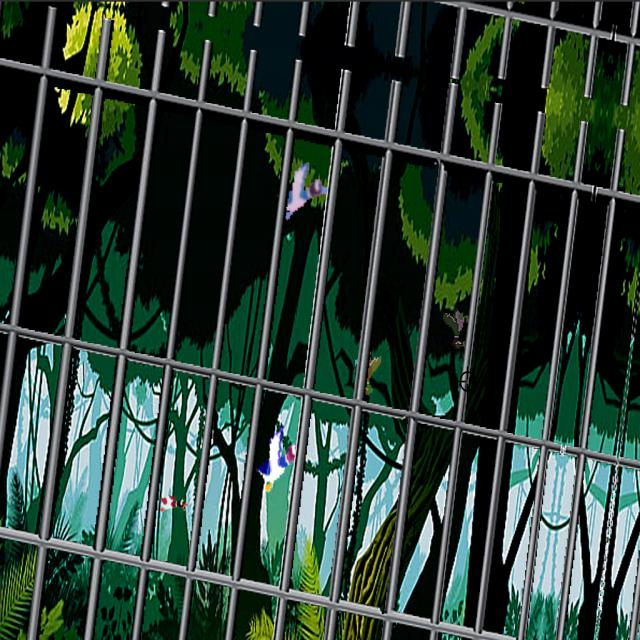duck: (253, 427, 301, 493), (280, 160, 328, 225), (157, 490, 197, 519)
falling_duck: (440, 301, 471, 355), (355, 348, 384, 397)
